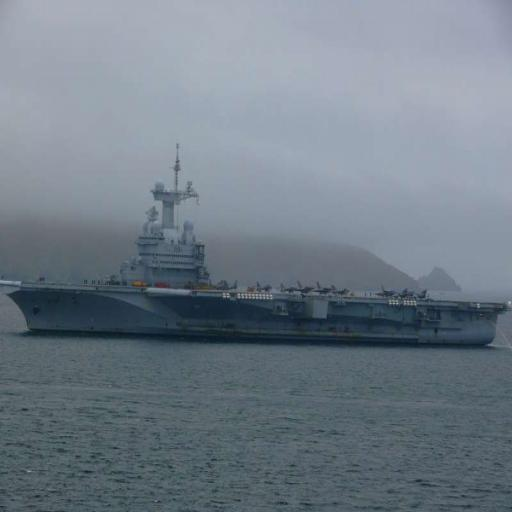Portanaves: (3, 142, 508, 351)
